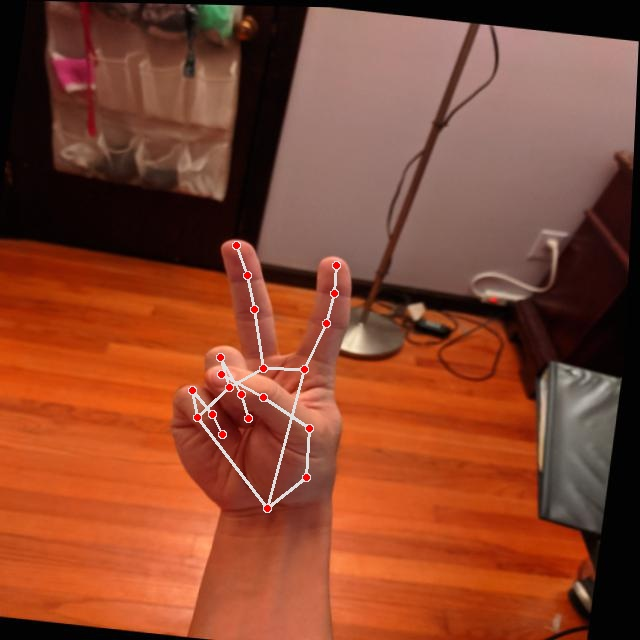V: (158, 228, 376, 528)
